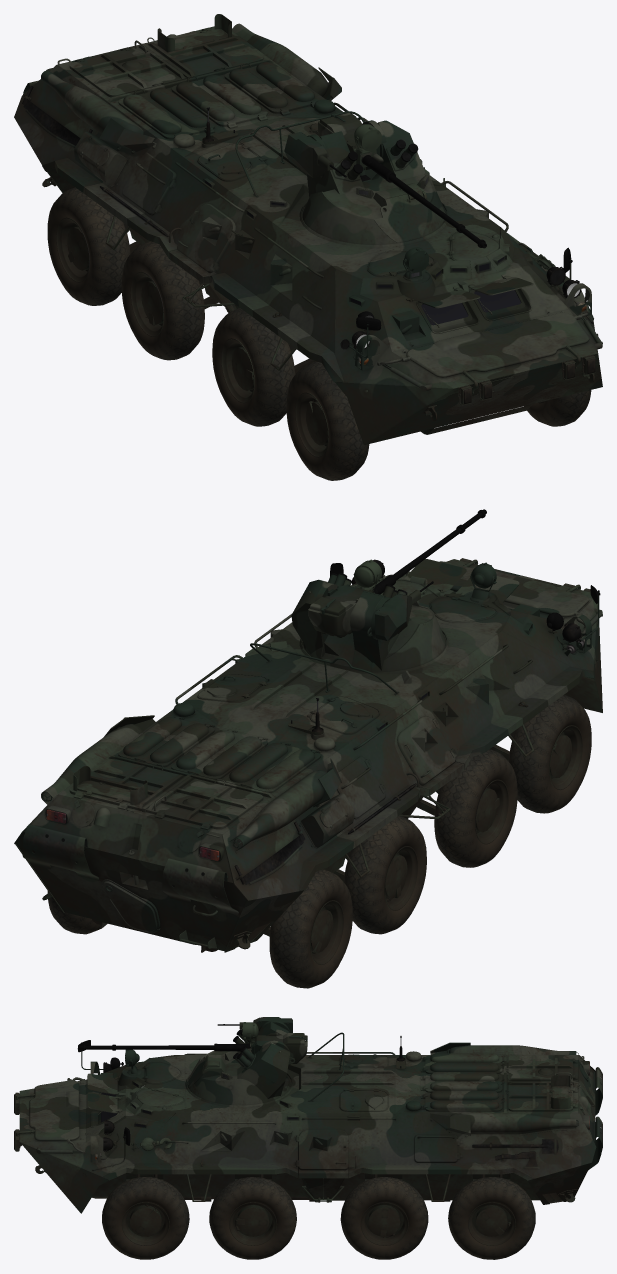
Rendered from btr80.glb.
3 renders of one model, top to bottom at view 1: azimuth 30°, elevation 25°; view 2: azimuth 150°, elevation 25°; view 3: azimuth 270°, elevation 25°, orthographic. The views are drawn at different scales.
Parts seen in each view (by area): view 1: BTR_80_A, BTR_80_B, BTR_80_WA006, BTR_80_WA007, BTR_80_WA005, BTR_80_WA004, BTR_80_C, BTR_80_WB006, BTR_80_WB005, BTR_80_WB007, BTR_80_WB004, BTR_80_WA002 (+1 smaller); view 2: BTR_80_A, BTR_80_B, BTR_80_WA005, BTR_80_WA004, BTR_80_WA006, BTR_80_WA007, BTR_80_C, BTR_80_D, BTR_80_WB004, BTR_80_WB006, BTR_80_WB005, BTR_80_WB007 (+1 smaller); view 3: BTR_80_A, BTR_80_B, BTR_80_WA, BTR_80_WA003, BTR_80_WA001, BTR_80_WA002, BTR_80_C, BTR_80_WB001, BTR_80_WB002, BTR_80_WB003, BTR_80_WB, BTR_80_D.
Boxes of the visible parts, x1,y1,x2,y2 form: BTR_80_A: (14,14,602,445); BTR_80_B: (302,120,445,244); BTR_80_WA006: (121,241,204,360); BTR_80_WA007: (47,187,130,305); BTR_80_WA005: (212,308,295,426); BTR_80_WA004: (286,362,369,480); BTR_80_C: (284,112,486,248); BTR_80_WB006: (130,272,163,336); BTR_80_WB005: (221,338,254,403); BTR_80_WB007: (56,217,89,282); BTR_80_WB004: (295,392,328,457); BTR_80_WA002: (524,390,591,426); BTR_80_A: (14,558,602,952); BTR_80_B: (291,572,445,672); BTR_80_WA005: (434,749,517,867); BTR_80_WA004: (508,695,591,813); BTR_80_WA006: (344,815,426,934); BTR_80_WA007: (269,869,352,988); BTR_80_C: (308,509,486,640); BTR_80_D: (404,559,519,604); BTR_80_WB004: (549,725,582,790); BTR_80_WB006: (384,846,417,910); BTR_80_WB005: (475,779,508,844); BTR_80_WB007: (310,900,343,964); BTR_80_A: (14,1032,602,1213); BTR_80_B: (187,1020,295,1105); BTR_80_WA: (448,1177,535,1259); BTR_80_WA003: (209,1177,296,1259); BTR_80_WA001: (340,1177,428,1259); BTR_80_WA002: (102,1177,189,1259); BTR_80_C: (79,1017,307,1064); BTR_80_WB001: (360,1202,408,1245); BTR_80_WB002: (121,1202,169,1245); BTR_80_WB003: (229,1202,277,1245); BTR_80_WB: (468,1202,515,1245); BTR_80_D: (87,1073,119,1113).
Size of the model in its own units: 299 by 288 by 780.
6 materials, 2 textured.
